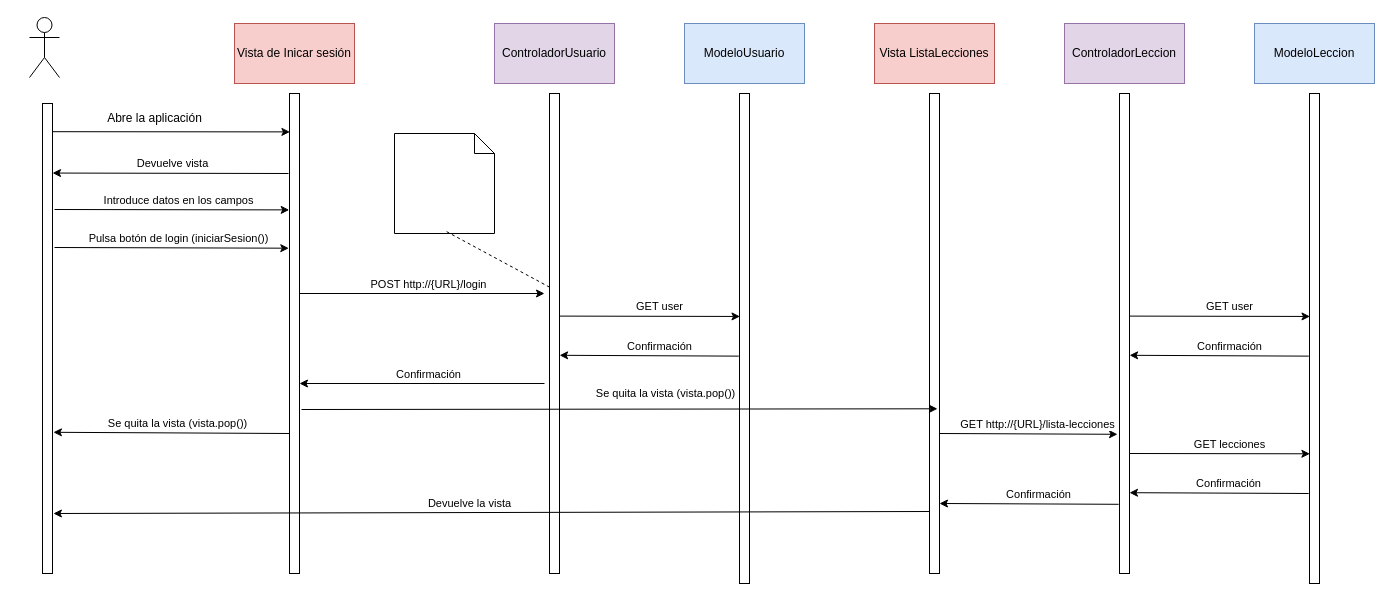
The diagram is 1392 pixels wide and 601 high, and some of its shapes have lost their labels. Here are the shapes that lost their labels. From the top down, the centre of each, then its label:
pixel 44 47: USUARIO
pixel 444 183: Recibe los datos e identifica al usuario
